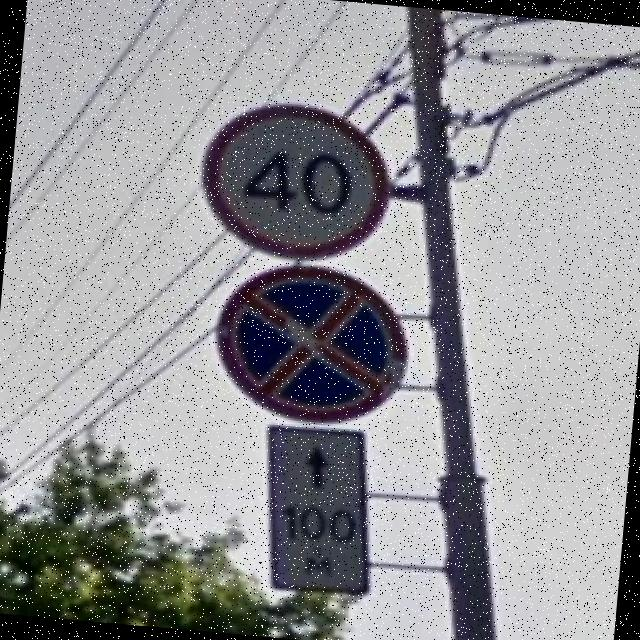Ograniczenie predkosci do 40: (190, 94, 398, 269)
